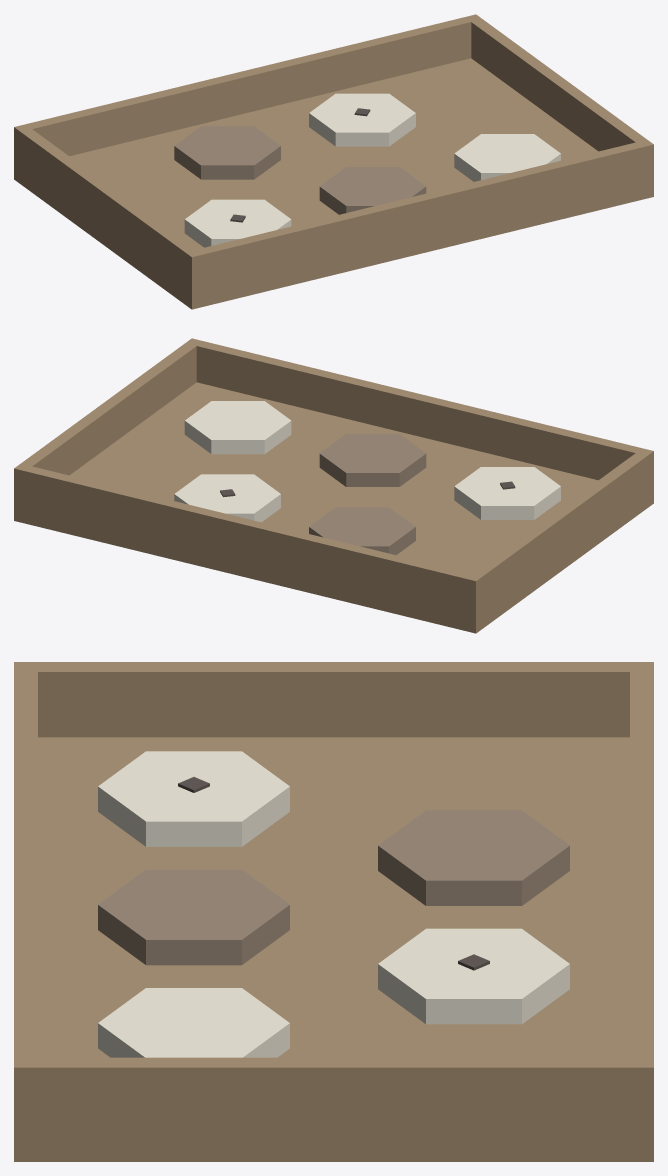
The model's file is prop-bone-button-blank-tray.fbx.
The picture shows the model from 3 angles, top to bottom: view 1: azimuth 30°, elevation 25°; view 2: azimuth 150°, elevation 25°; view 3: azimuth 270°, elevation 25°; orthographic projection. The views are drawn at different scales.
Visible parts, largest first — view 1: prop-bone-button-blank-tray; view 2: prop-bone-button-blank-tray; view 3: prop-bone-button-blank-tray.
Boxes of the visible parts, box(x1,y1,x2,y2) form: prop-bone-button-blank-tray: box(14, 14, 653, 309); prop-bone-button-blank-tray: box(14, 338, 653, 633); prop-bone-button-blank-tray: box(14, 662, 653, 1161).
Size of the model in its own units: 24 by 2.6 by 16.
